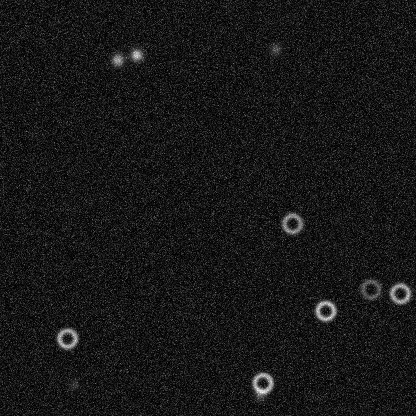Ring: (55, 326, 79, 350), (313, 298, 337, 322), (280, 211, 304, 235), (358, 277, 382, 301), (250, 370, 274, 394), (387, 281, 411, 305)
Spot: (251, 386, 267, 402), (267, 41, 283, 57), (128, 46, 144, 62), (109, 51, 125, 67), (65, 376, 81, 392)
